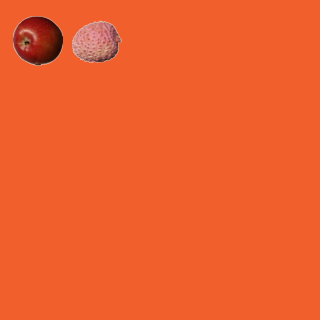Apple Braeburn: (12, 15, 62, 65)
Lychee: (71, 16, 121, 66)
